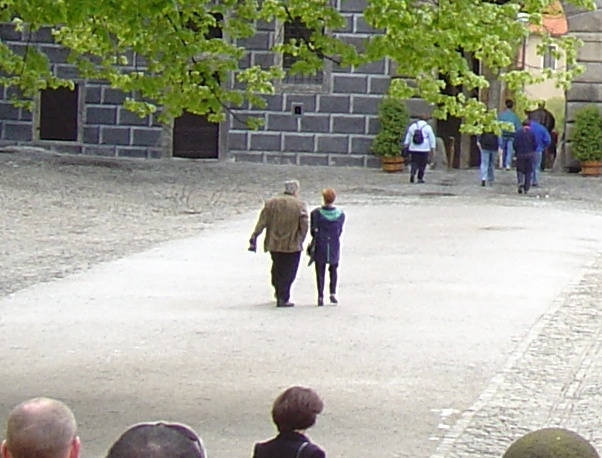person: (255, 174, 310, 309), (309, 188, 344, 310), (408, 112, 434, 185), (511, 118, 536, 191)
